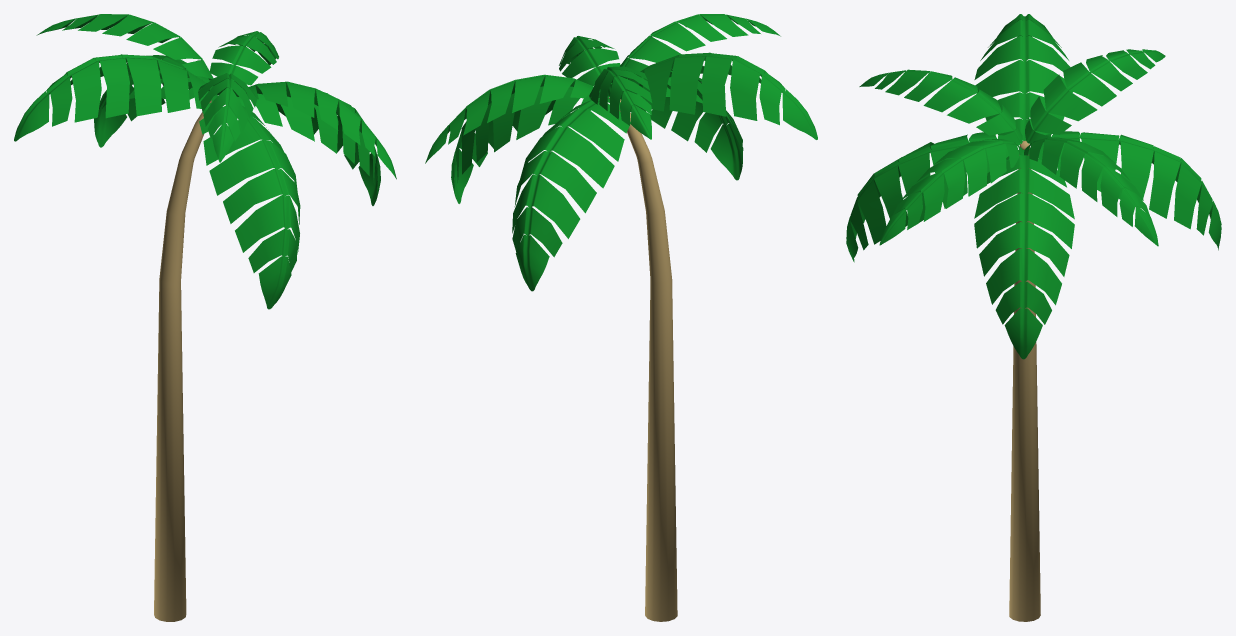
The model's file is palm.glb.
The picture shows the model from 3 angles, left to right: view 1: azimuth 30°, elevation 25°; view 2: azimuth 150°, elevation 25°; view 3: azimuth 270°, elevation 25°; orthographic projection. The views are drawn at different scales.
Parts seen in each view (by area): view 1: Palm_trunk-col, Leaf_big2, Leaf_big, Leaf_small2, Leaf_small; view 2: Leaf_big, Palm_trunk-col, Leaf_big2, Leaf_small, Leaf_small2; view 3: Leaf_big2, Leaf_big, Leaf_small2, Leaf_small, Palm_trunk-col.
Boxes of the visible parts, left/top/right/bottom form: Palm_trunk-col: left=154, top=100, right=211, bottom=621; Leaf_big2: left=14, top=54, right=380, bottom=205; Leaf_big: left=94, top=55, right=300, bottom=309; Leaf_small2: left=36, top=14, right=396, bottom=179; Leaf_small: left=198, top=31, right=278, bottom=162; Leaf_big: left=512, top=68, right=743, bottom=291; Palm_trunk-col: left=608, top=97, right=677, bottom=621; Leaf_big2: left=451, top=52, right=817, bottom=203; Leaf_small: left=425, top=14, right=780, bottom=163; Leaf_small2: left=559, top=36, right=652, bottom=139; Leaf_big2: left=974, top=14, right=1074, bottom=359; Leaf_big: left=846, top=131, right=1221, bottom=262; Leaf_small2: left=879, top=49, right=1165, bottom=245; Leaf_small: left=859, top=69, right=1158, bottom=246; Palm_trunk-col: left=1009, top=140, right=1040, bottom=621.
Size of the model in its own units: 8.81 by 13.28 by 8.05.
